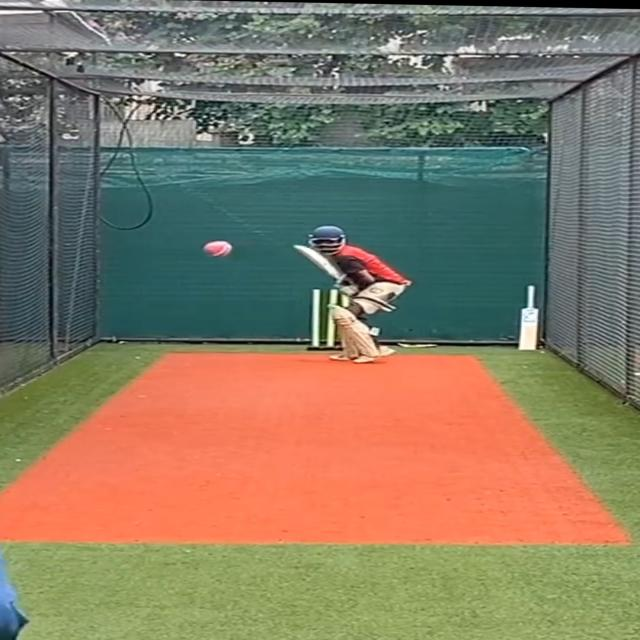ball: (198, 238, 234, 262)
stump: (308, 286, 358, 352)
